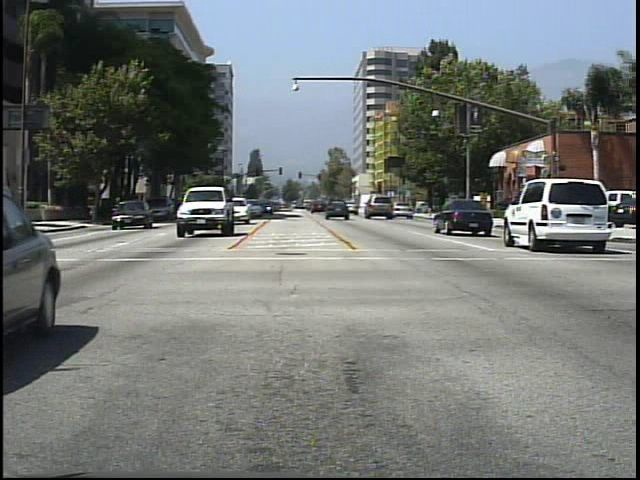person: (507, 192, 526, 231), (462, 191, 480, 226)
